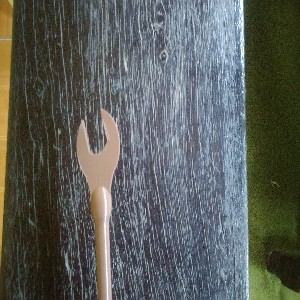spanner: (75, 108, 120, 300)
